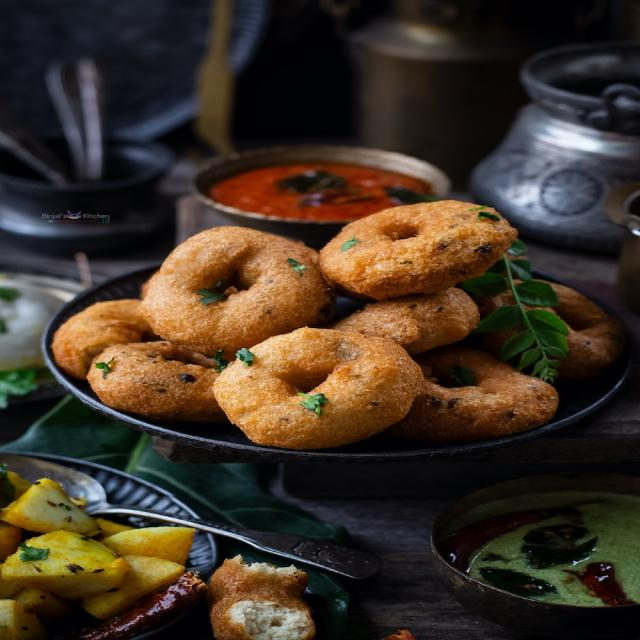MEDU VADA: (215, 327, 423, 448), (141, 226, 330, 353), (320, 201, 516, 299), (86, 341, 224, 421)
